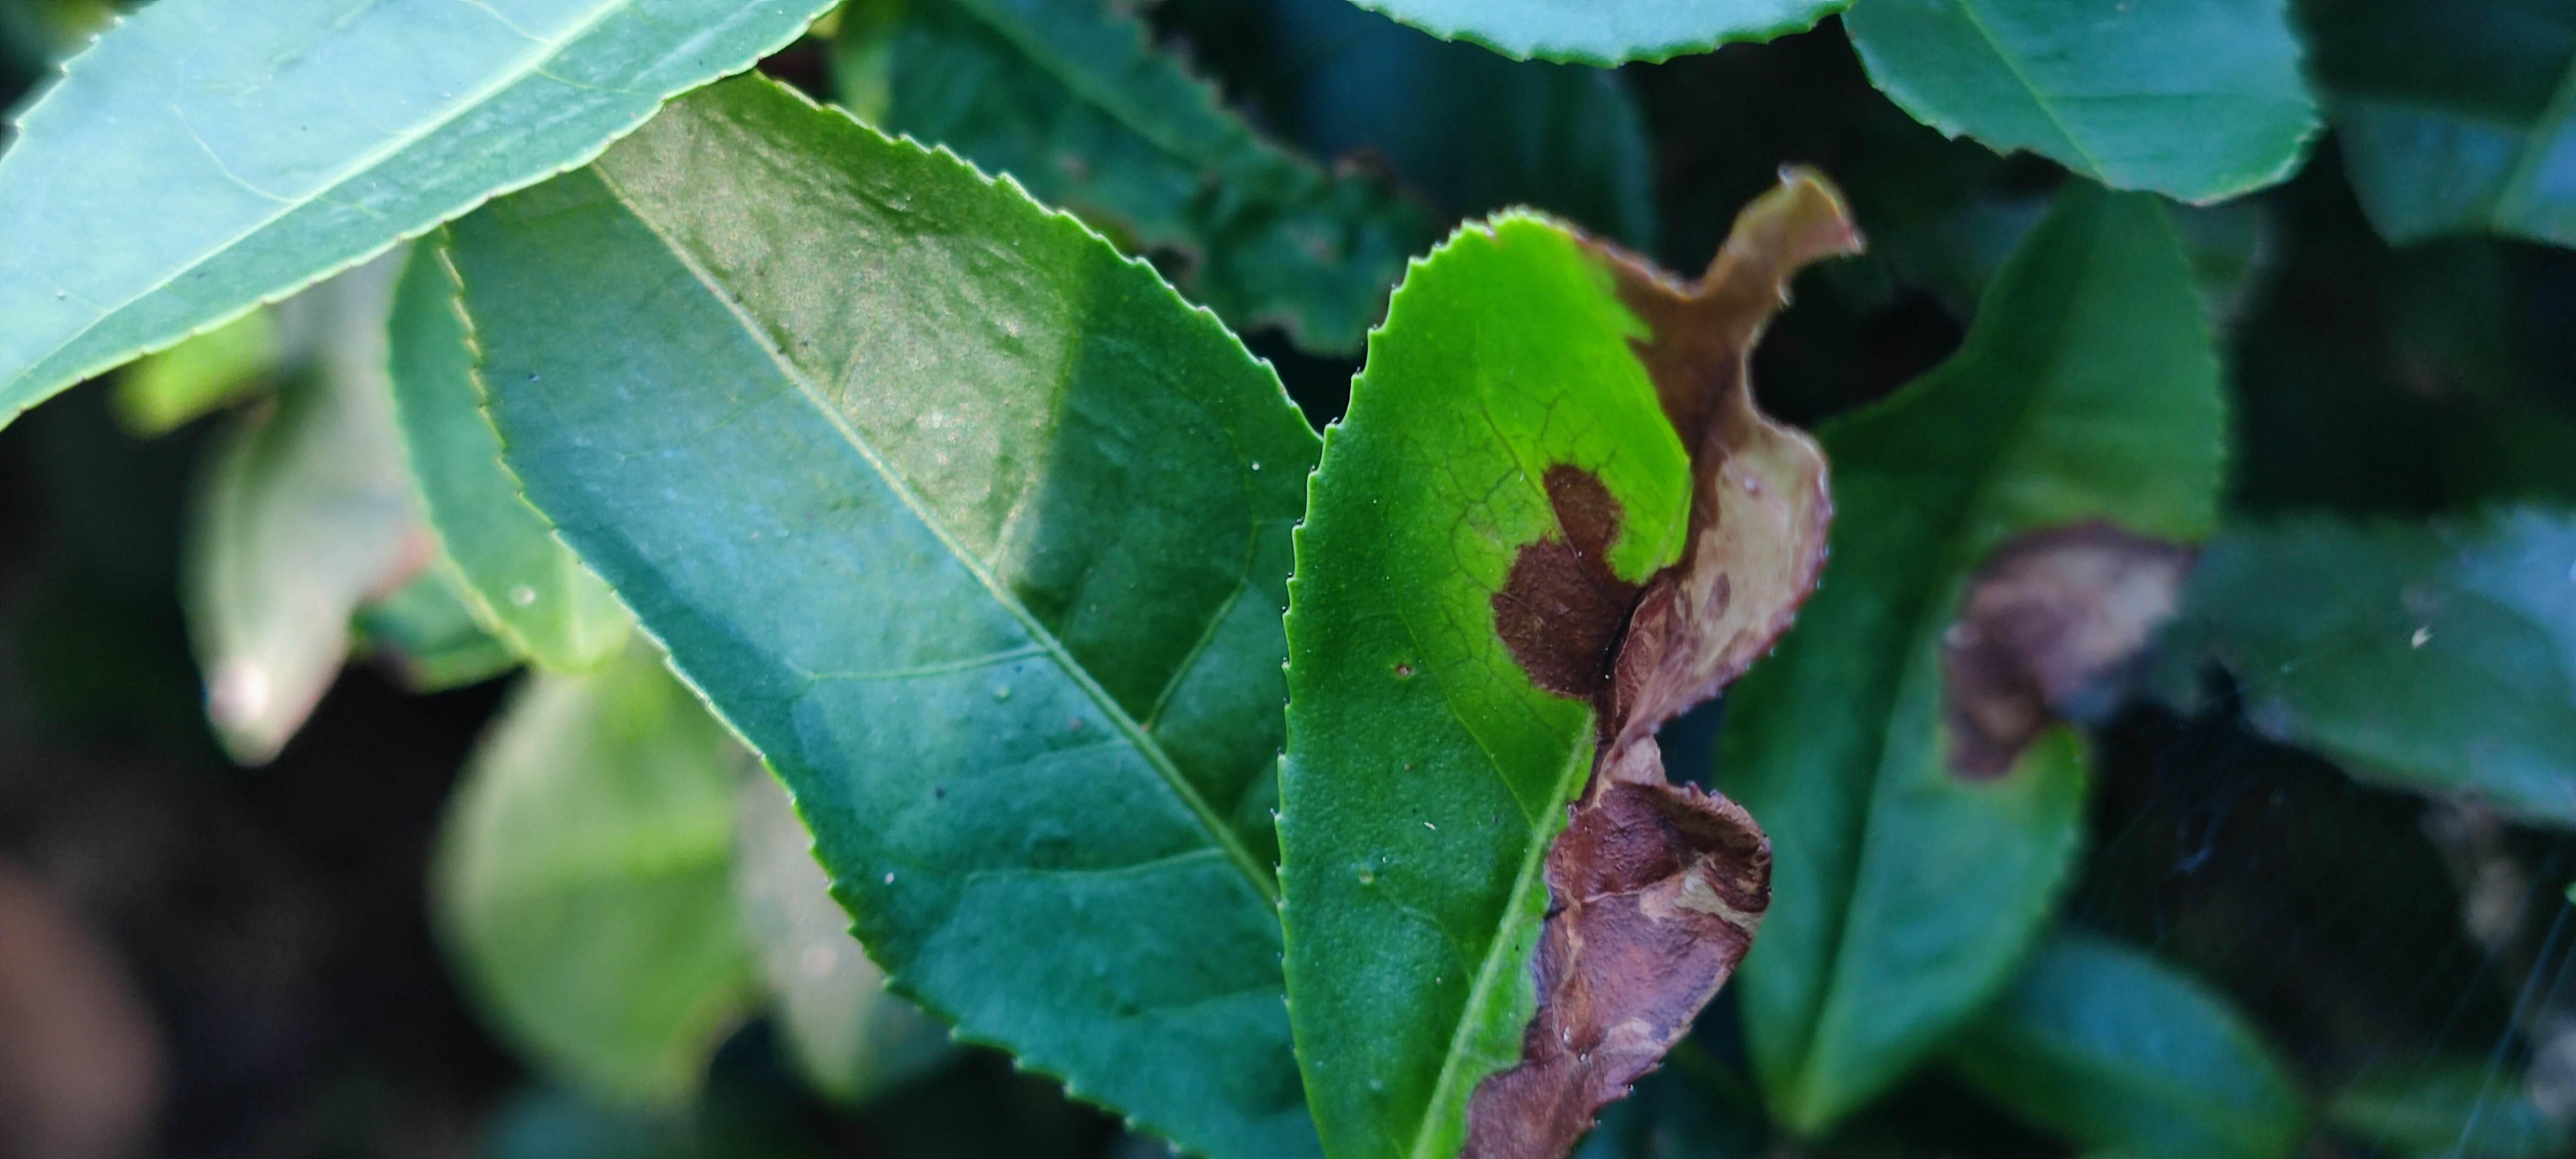healthy: (444, 72, 1331, 1149), (3, 3, 851, 445)
tanju_high: (1270, 164, 1868, 1154), (1713, 190, 2236, 1141)
